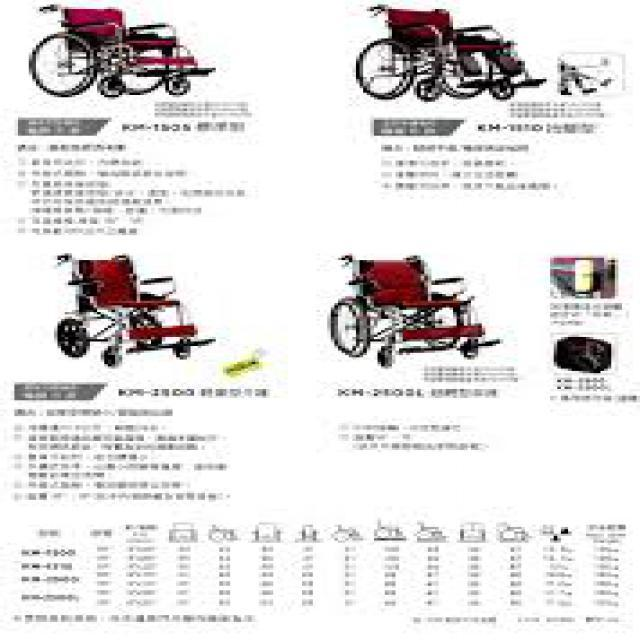wheelchair: (324, 0, 546, 100), (306, 248, 497, 364), (7, 0, 223, 97), (46, 249, 215, 371)
